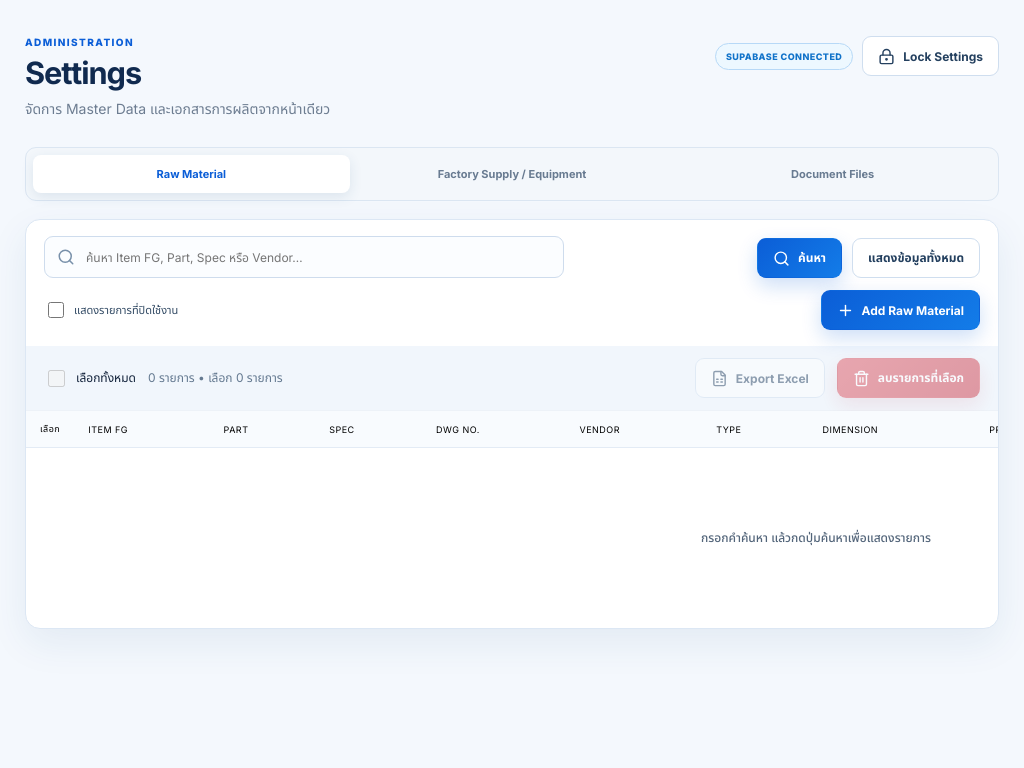
it: Settings document search › uses the inactive option and clears selection when changing it
Click the checkbox labelled "แสดงรายการที่ปิดใช้งาน": [56, 310] box [48,302,64,318]
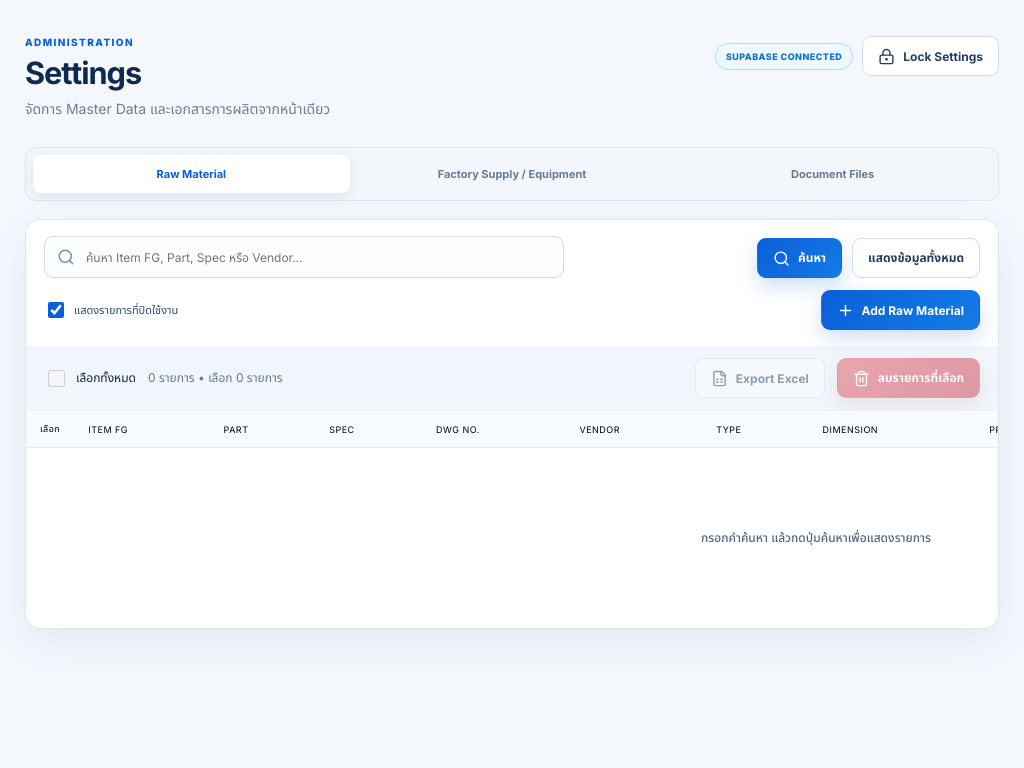
Click the button "แสดงข้อมูลทั้งหมด": [916, 258] box [852,238,980,278]
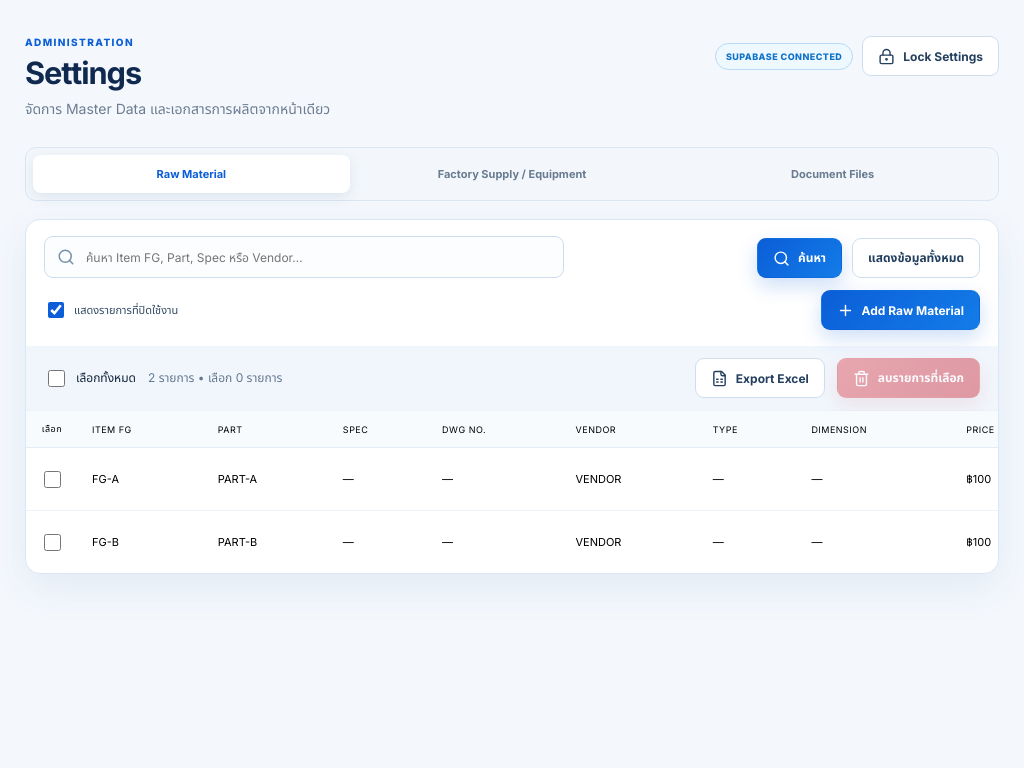
Expected: the text "PART-A" is shown, [204,448,329,511]
Click the checkbox labelled "เลือกทั้งหมด": [56, 378] box [48,370,65,387]
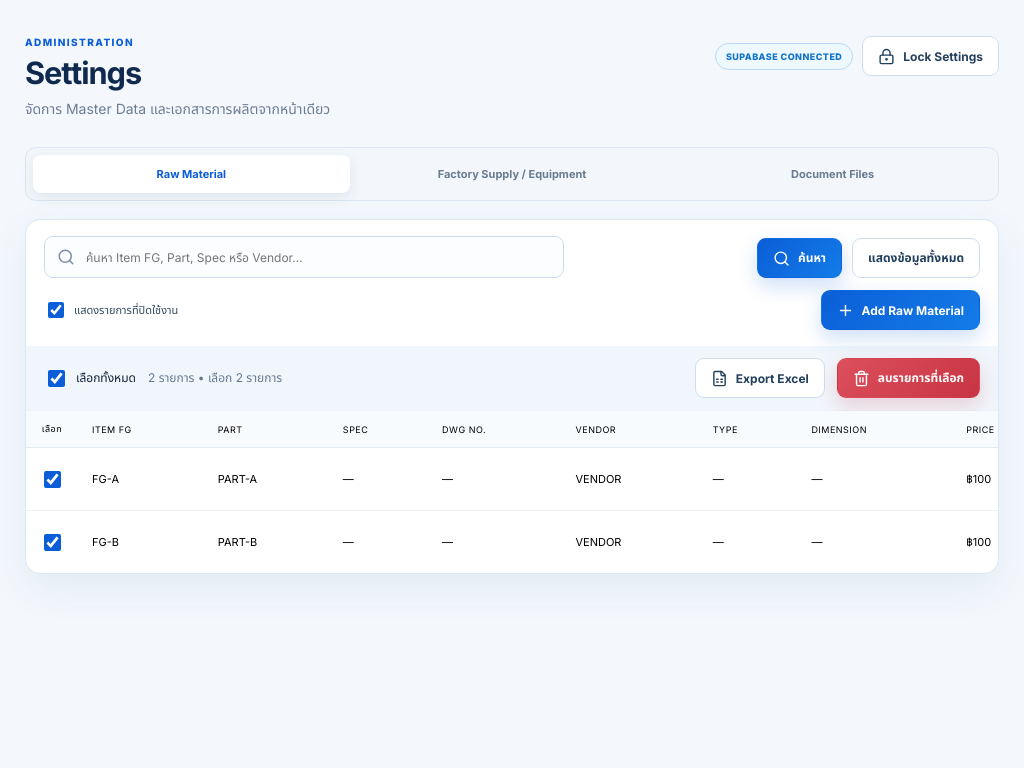
Click the checkbox labelled "แสดงรายการที่ปิดใช้งาน": [56, 310] box [48,302,64,318]
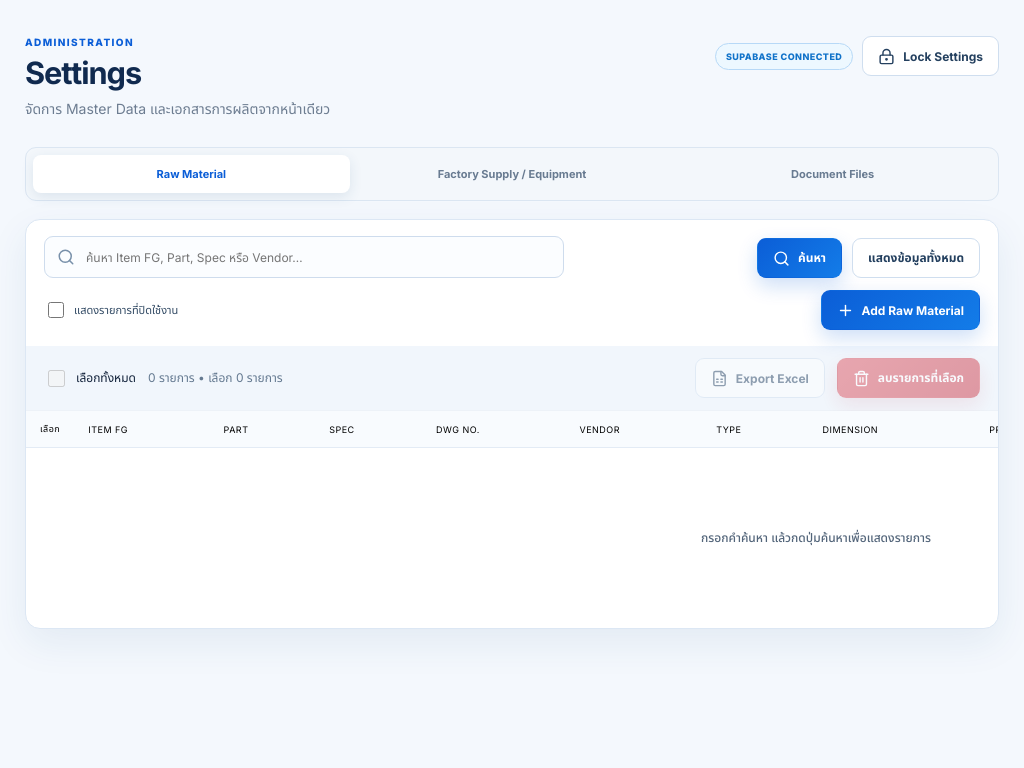
Expected: the text "PART-A" is gone
Expected: the button "ลบรายการที่เลือก" is disabled, [837,358,980,398]
